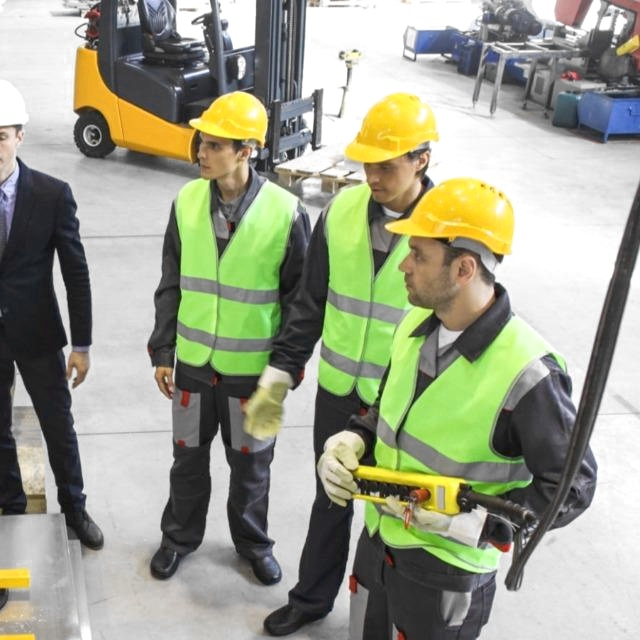Con_Chaleco: (361, 309, 567, 567), (165, 171, 303, 379), (318, 179, 417, 405)
